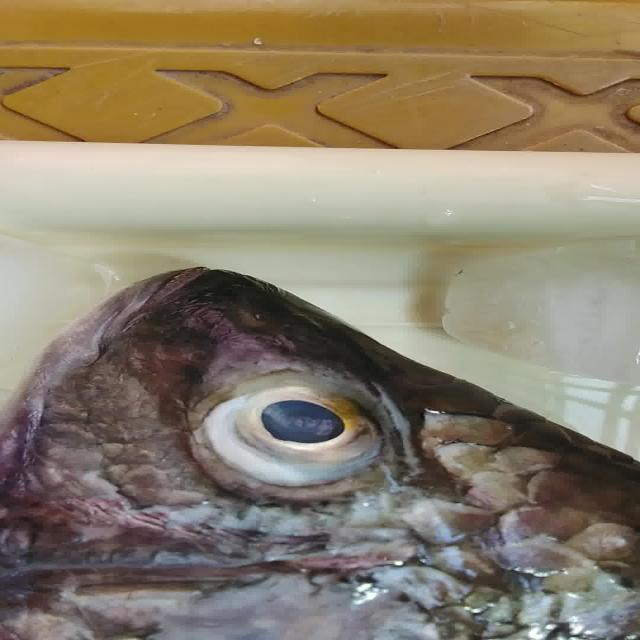Fresh: (140, 359, 482, 518)
